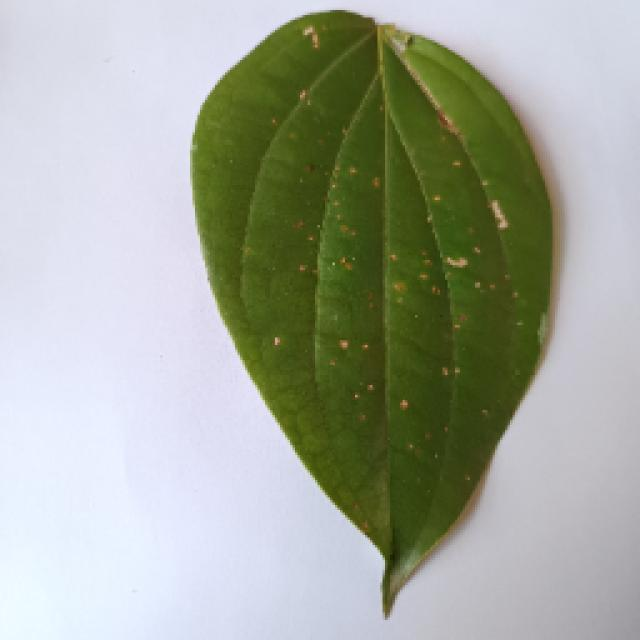pollu-disease: (185, 10, 550, 612)
